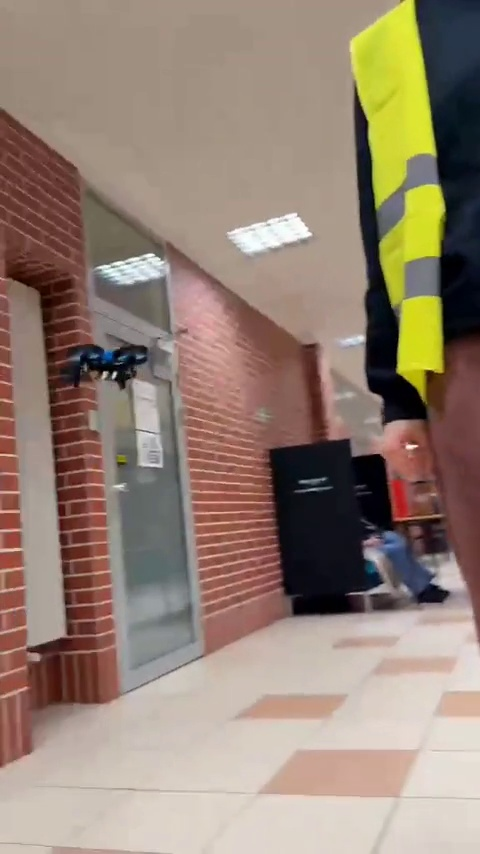drone: (60, 346, 149, 381)
